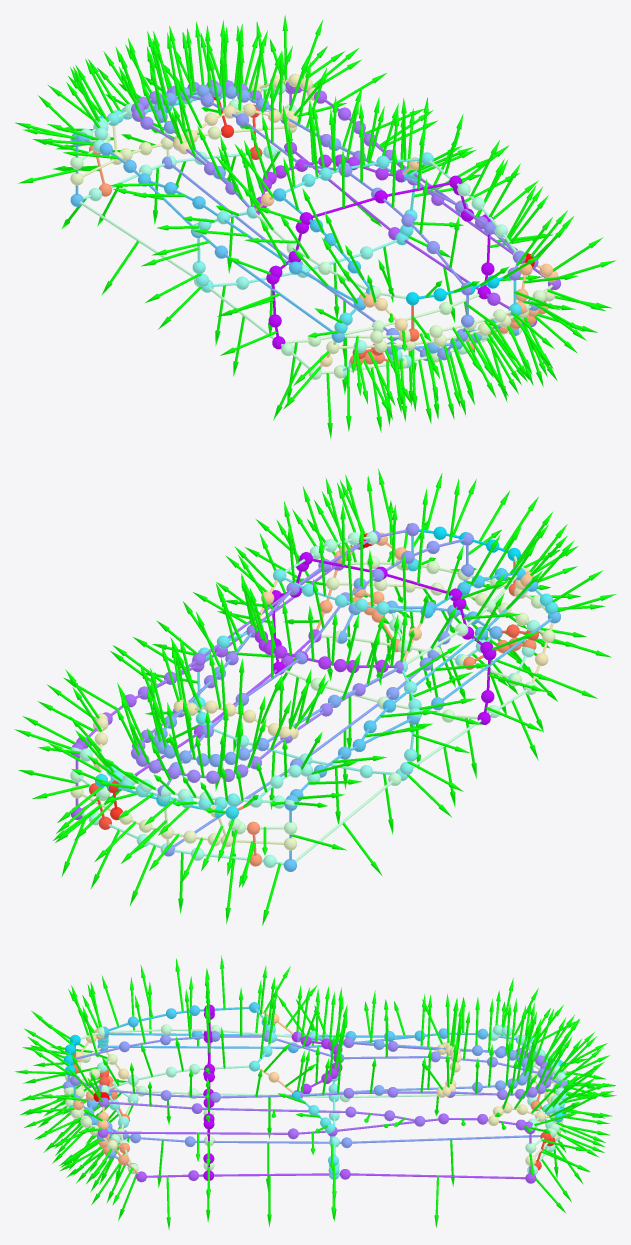
Rendered from t2f_car_93.gltf.
The picture shows the model from 3 angles, top to bottom: view 1: azimuth 30°, elevation 25°; view 2: azimuth 150°, elevation 25°; view 3: azimuth 270°, elevation 25°; orthographic projection. The views are drawn at different scales.
Size of the model in its own units: 0.5711 by 0.413 by 1.1.
